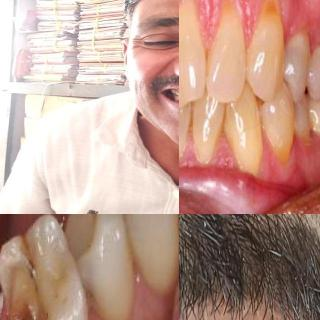cavities: (0, 269, 54, 320)
maligned: (173, 95, 179, 102), (173, 91, 179, 97)
stains: (181, 100, 203, 142)
